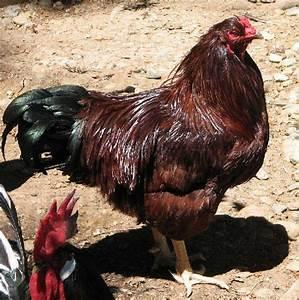hen: (0, 13, 270, 297)
